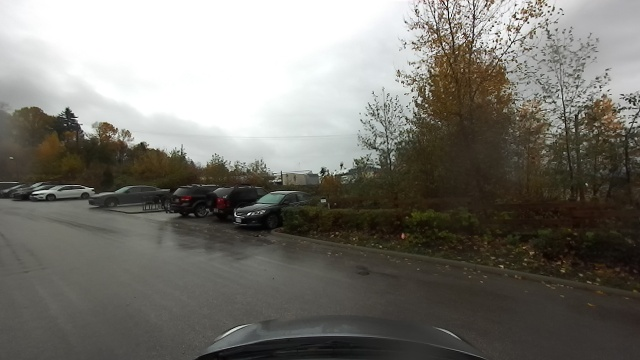car: (88, 181, 168, 212), (231, 189, 279, 230), (200, 182, 240, 229), (22, 180, 91, 204), (169, 182, 208, 219)
